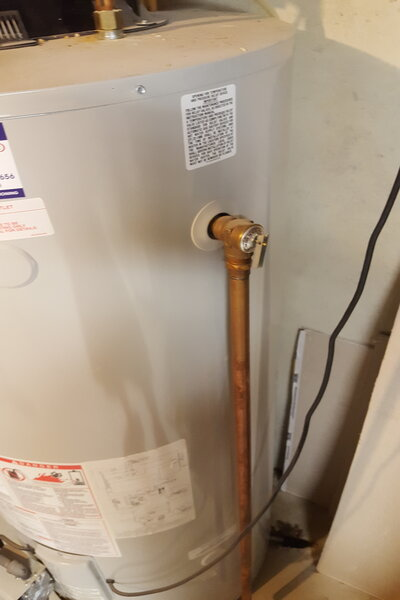valve: (207, 210, 269, 298)
